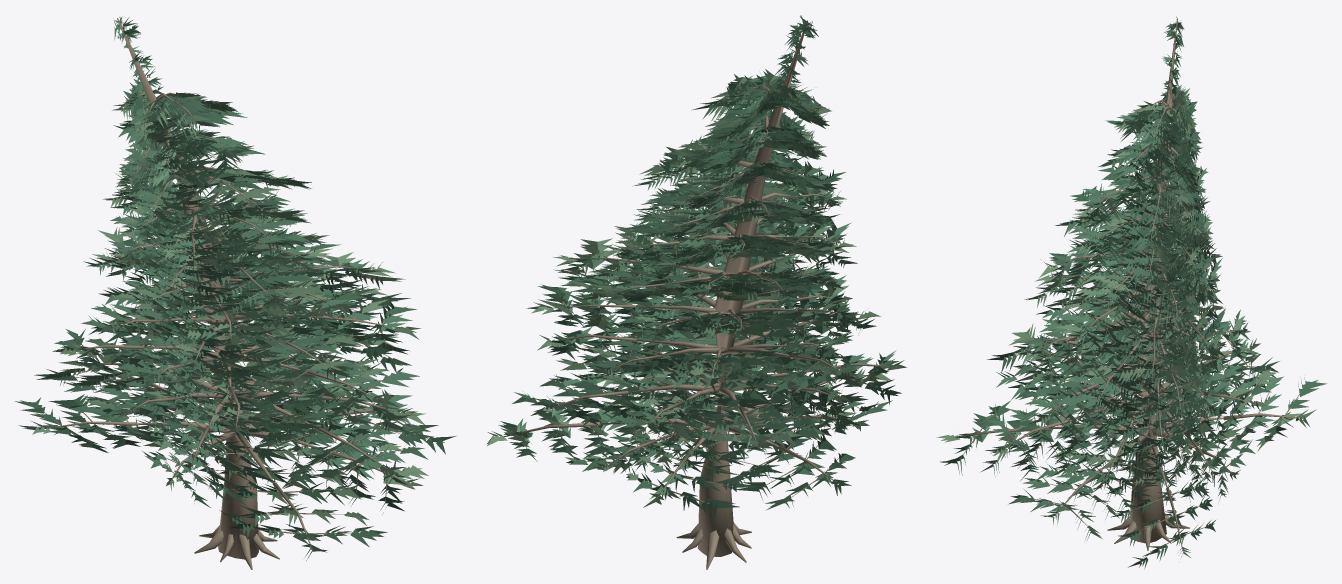
The model's file is cedar_7.glb.
The picture shows the model from 3 angles, left to right: view 1: azimuth 30°, elevation 25°; view 2: azimuth 150°, elevation 25°; view 3: azimuth 270°, elevation 25°; orthographic projection. The views are drawn at different scales.
Visible parts, largest first — view 1: tree_conifer_ConiferLeaf, tree_conifer_ConiferLeafLight, tree_conifer_ConiferLeafDark, tree_conifer_ConiferBark; view 2: tree_conifer_ConiferLeaf, tree_conifer_ConiferLeafLight, tree_conifer_ConiferBark, tree_conifer_ConiferLeafDark; view 3: tree_conifer_ConiferLeaf, tree_conifer_ConiferLeafLight, tree_conifer_ConiferLeafDark, tree_conifer_ConiferBark.
Boxes of the visible parts, x1,y1,x2,y2 form: tree_conifer_ConiferLeaf: [15, 16, 438, 547]; tree_conifer_ConiferLeafLight: [18, 85, 428, 560]; tree_conifer_ConiferLeafDark: [34, 82, 456, 538]; tree_conifer_ConiferBark: [38, 18, 431, 569]; tree_conifer_ConiferLeaf: [498, 15, 896, 510]; tree_conifer_ConiferLeafLight: [487, 69, 906, 507]; tree_conifer_ConiferBark: [503, 20, 889, 569]; tree_conifer_ConiferLeafDark: [500, 74, 901, 522]; tree_conifer_ConiferLeaf: [940, 16, 1293, 561]; tree_conifer_ConiferLeafLight: [936, 89, 1316, 557]; tree_conifer_ConiferLeafDark: [987, 86, 1327, 569]; tree_conifer_ConiferBark: [954, 18, 1301, 558].
Size of the model in its own units: 10.27 by 13.99 by 10.45.
